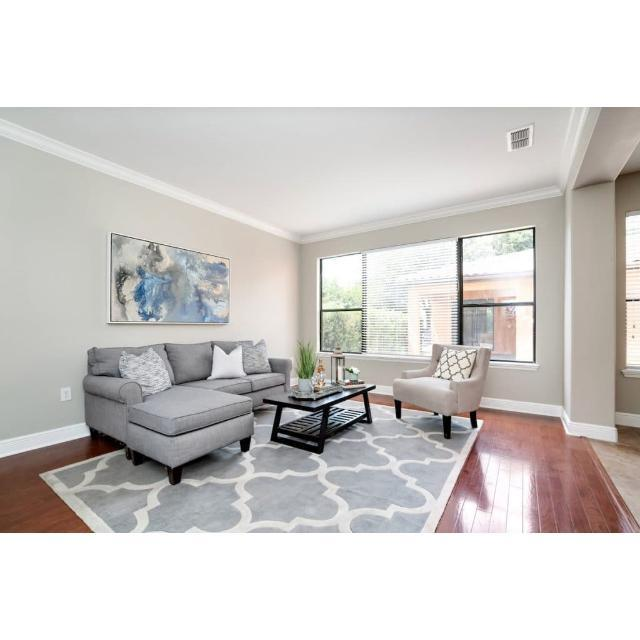pillow: (124, 345, 176, 399), (207, 344, 244, 379)
